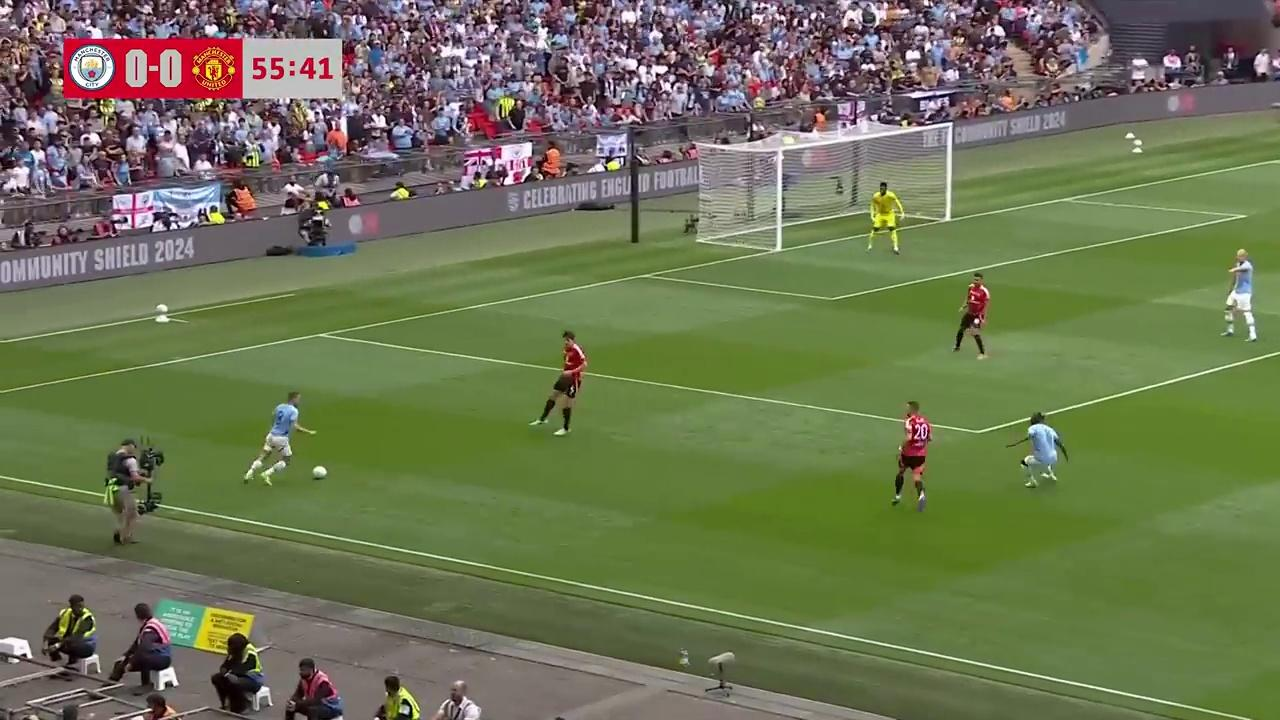ball: (311, 463, 328, 480)
player: (242, 390, 303, 486), (531, 335, 586, 433), (890, 401, 934, 512), (1006, 413, 1068, 488), (1221, 245, 1258, 341), (952, 271, 990, 359), (866, 184, 901, 254)
